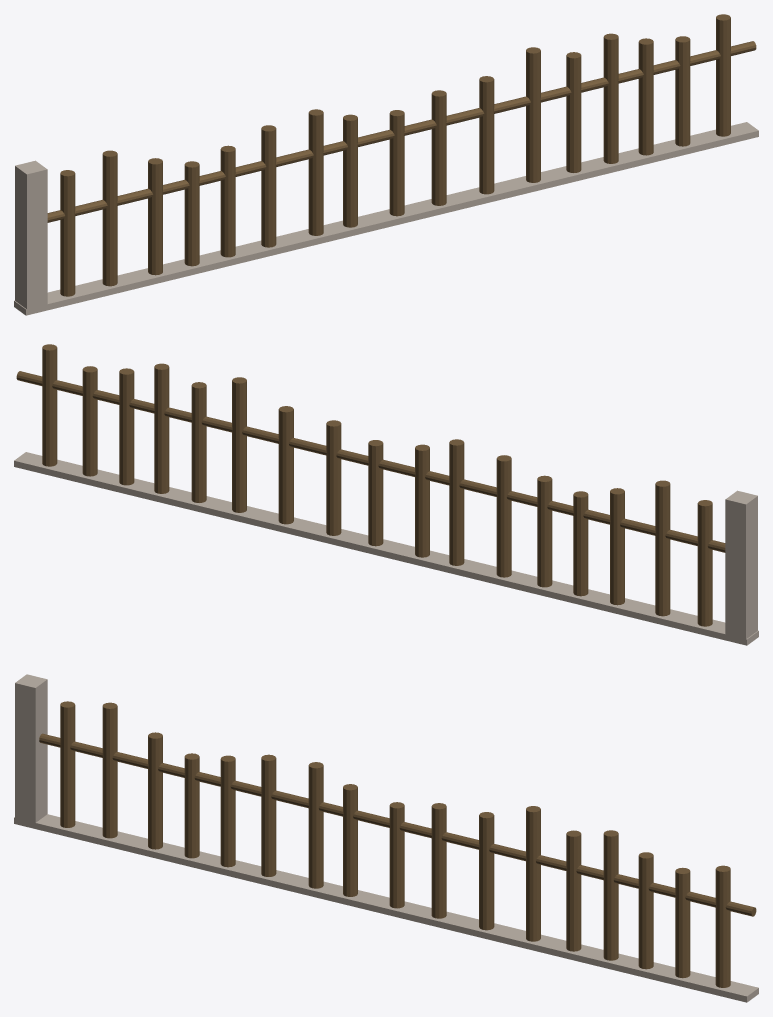
Rendered from barriereCimetiere.fbx.
3 views of the same model, one above another, from view 1: azimuth 30°, elevation 25°; view 2: azimuth 150°, elevation 25°; view 3: azimuth 330°, elevation 25° (orthographic).
Parts seen in each view (by area): view 1: polySurface1; view 2: polySurface1; view 3: polySurface1.
Boxes of the visible parts, x1,y1,x2,y2 form: polySurface1: (14, 14, 758, 315); polySurface1: (14, 344, 758, 645); polySurface1: (14, 674, 758, 1002).
Bounding box in the file's own units: 1.77 × 0.3259 × 0.0501.
